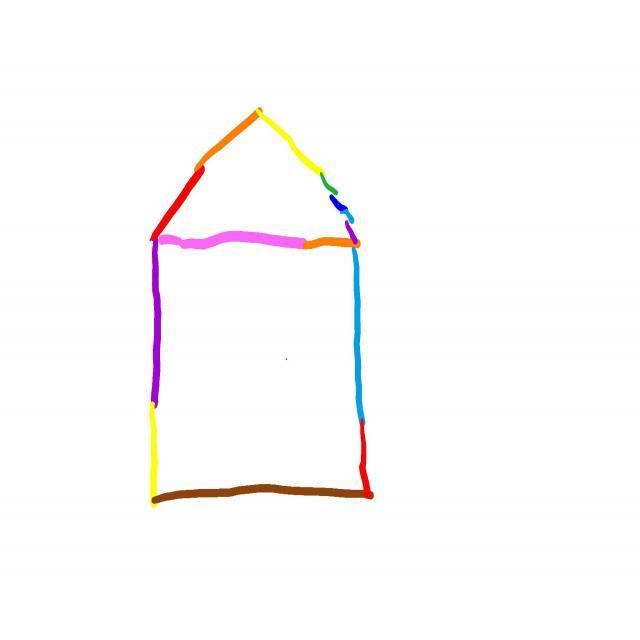house: (150, 109, 372, 504)
roof: (147, 105, 373, 254)
wall: (147, 244, 373, 502)
